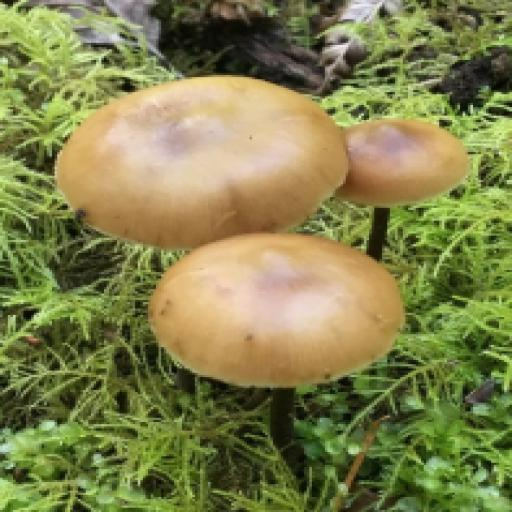mushroom: (127, 156, 429, 458), (44, 49, 359, 275), (293, 73, 481, 260)
